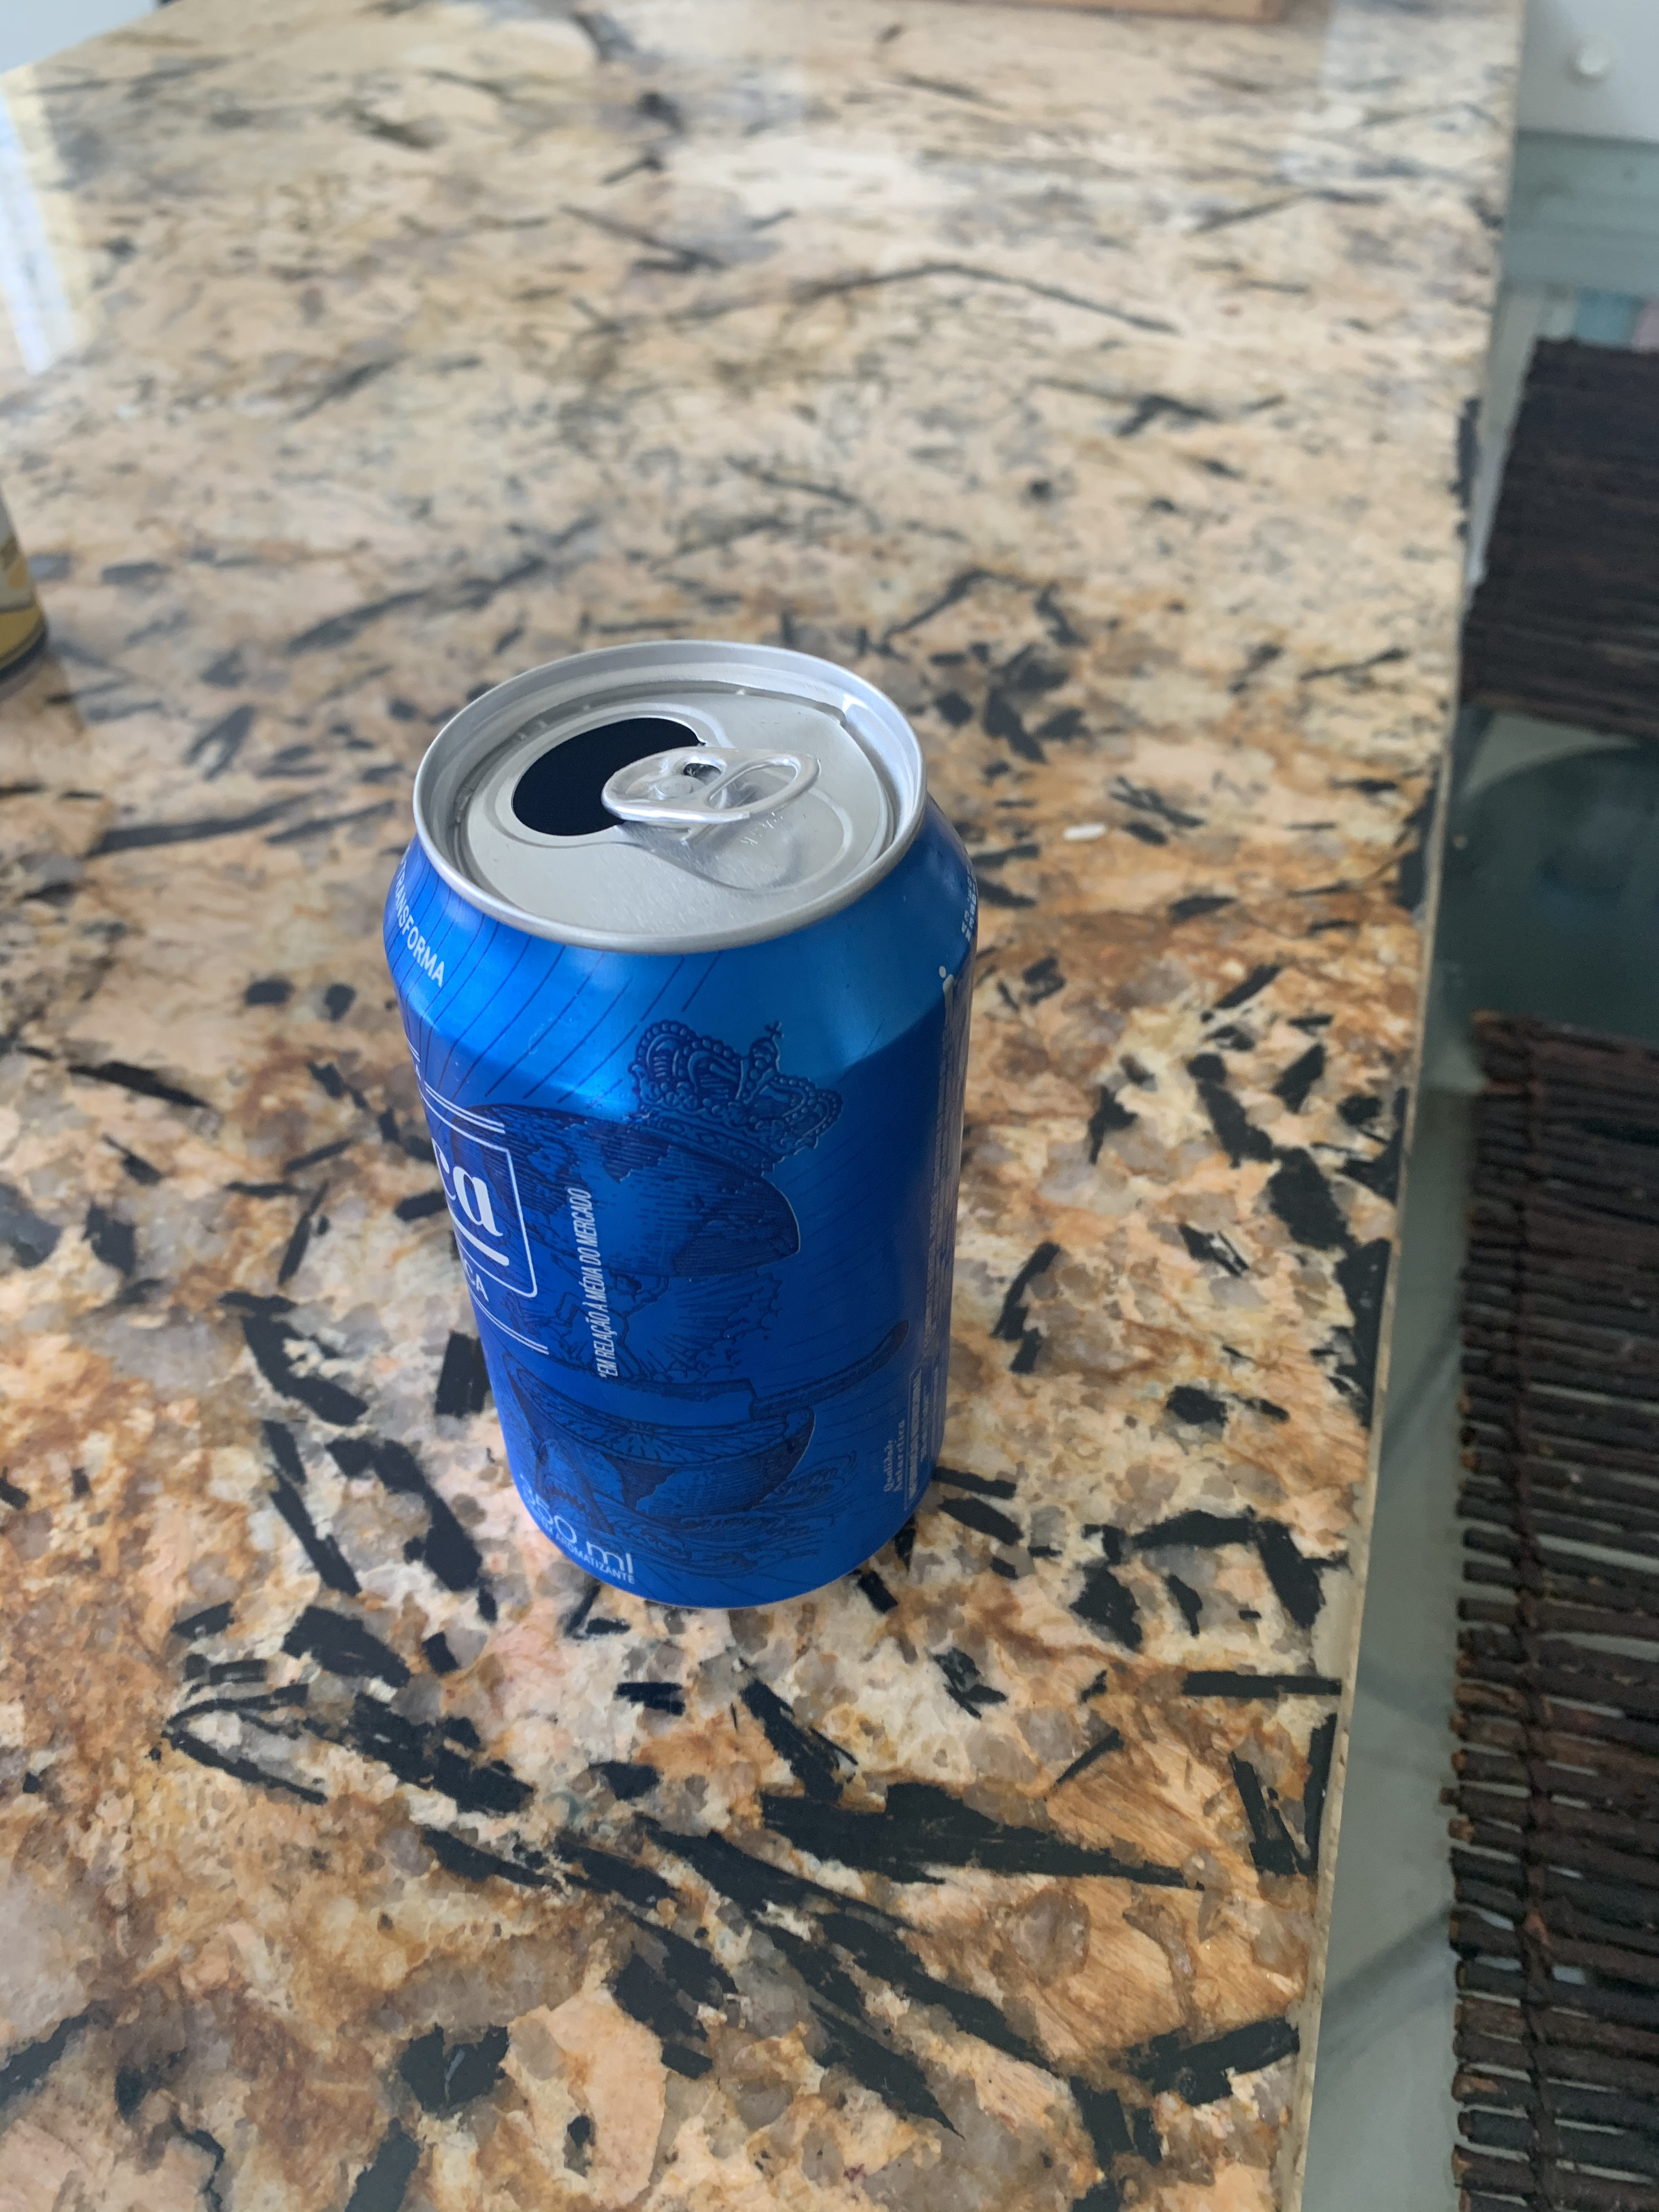tonica: (345, 627, 981, 1662)
